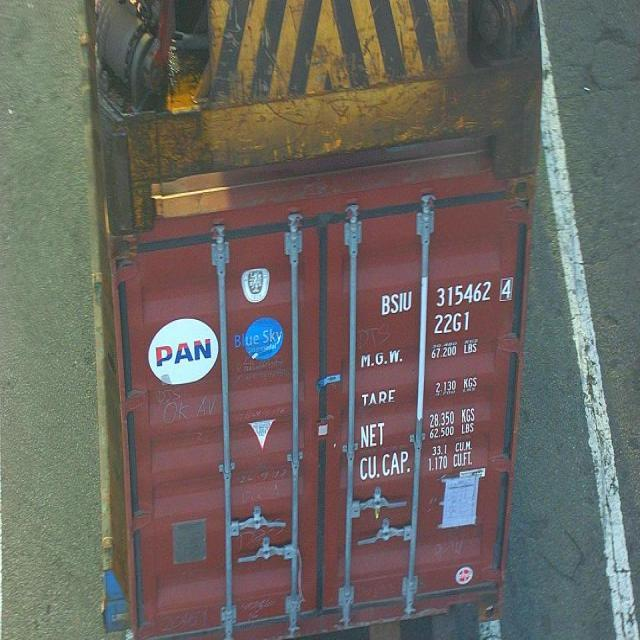ISO: (434, 313, 471, 333)
container_number: (382, 275, 514, 316)
